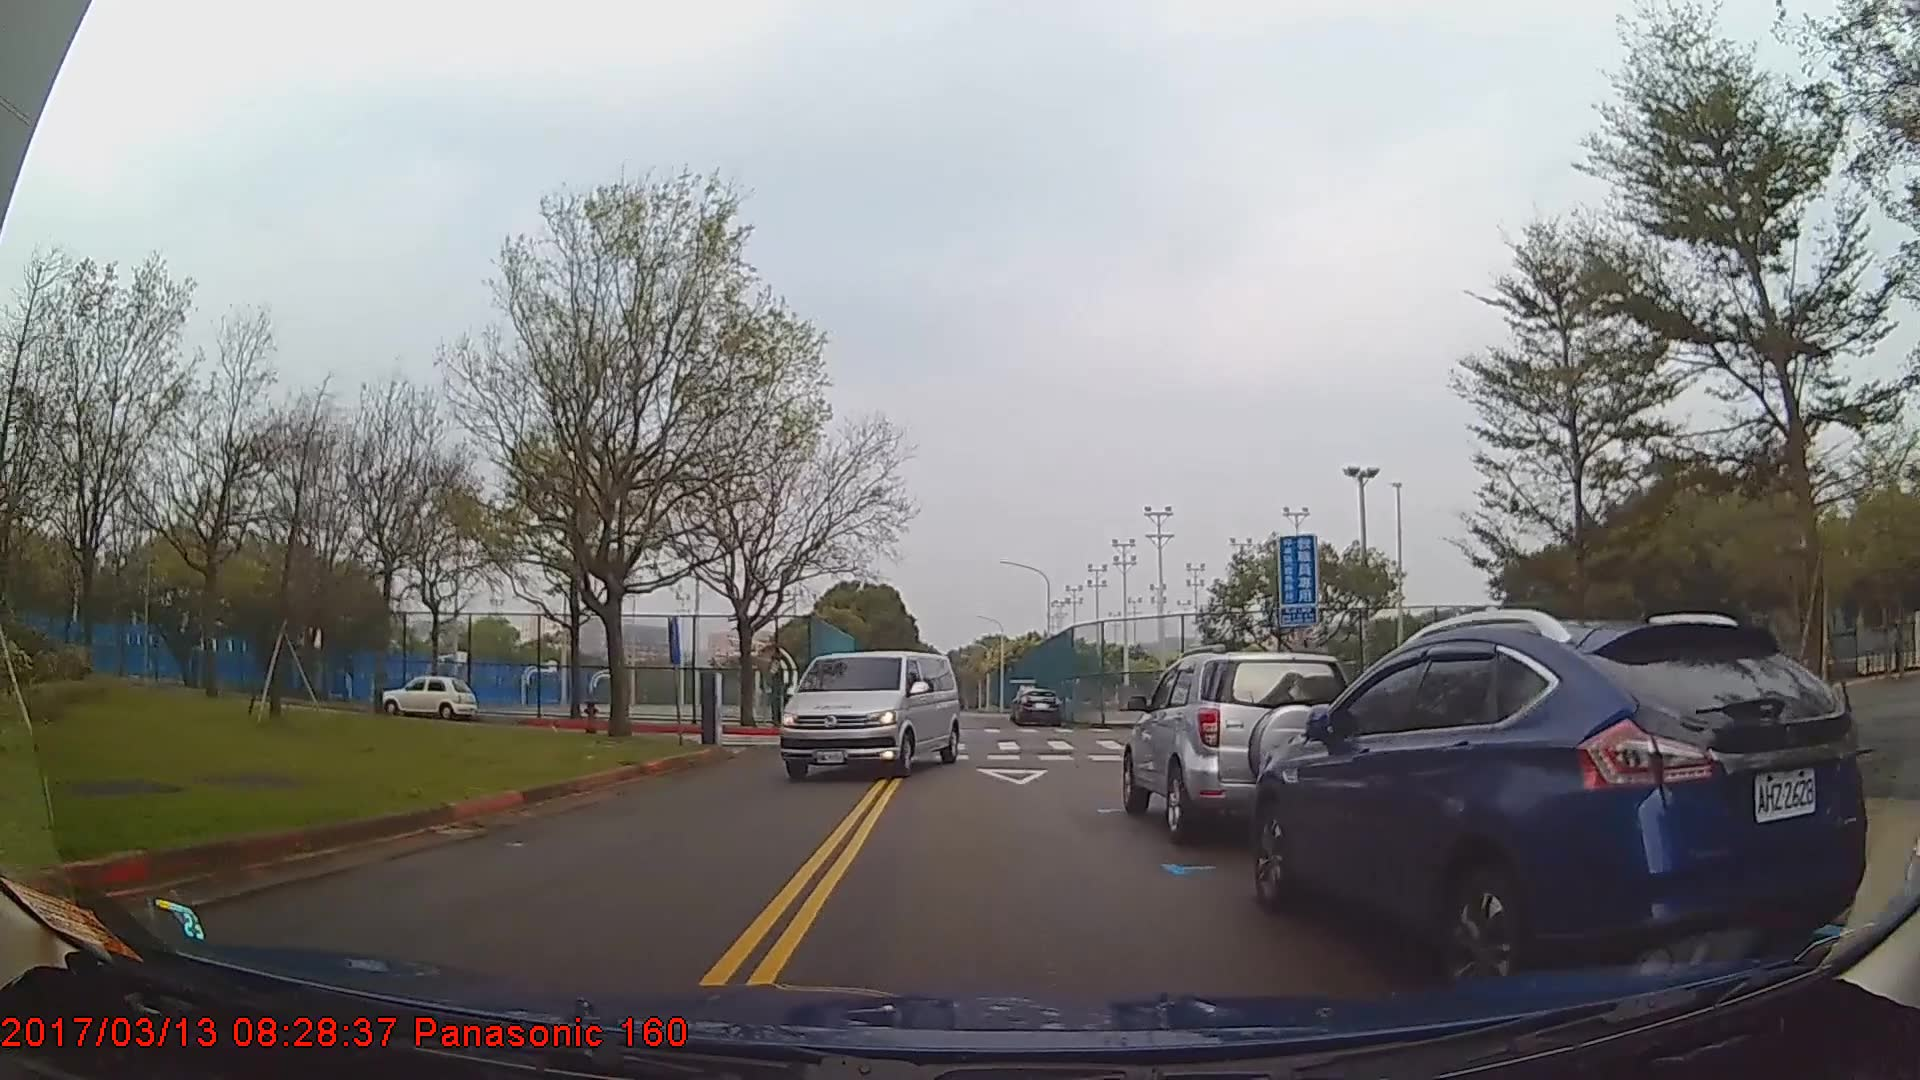vehicle: (1250, 612, 1873, 1004), (1120, 645, 1361, 840), (777, 646, 960, 775), (382, 671, 477, 717), (1015, 684, 1063, 727)
